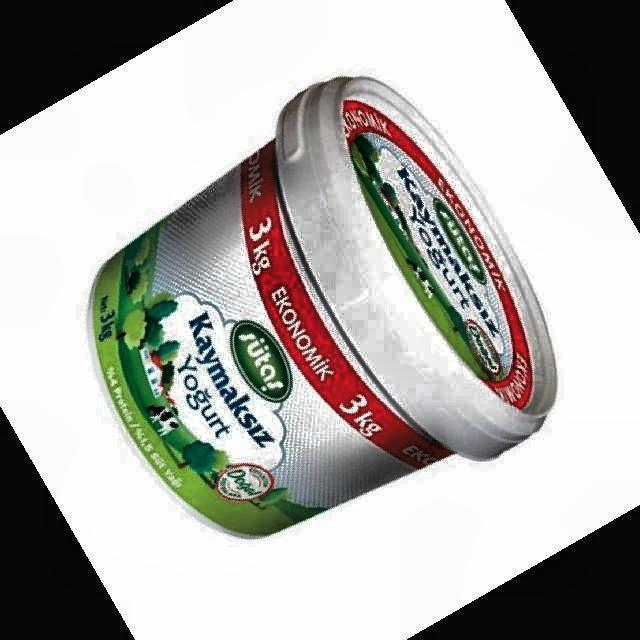plastic: (90, 78, 556, 536)
